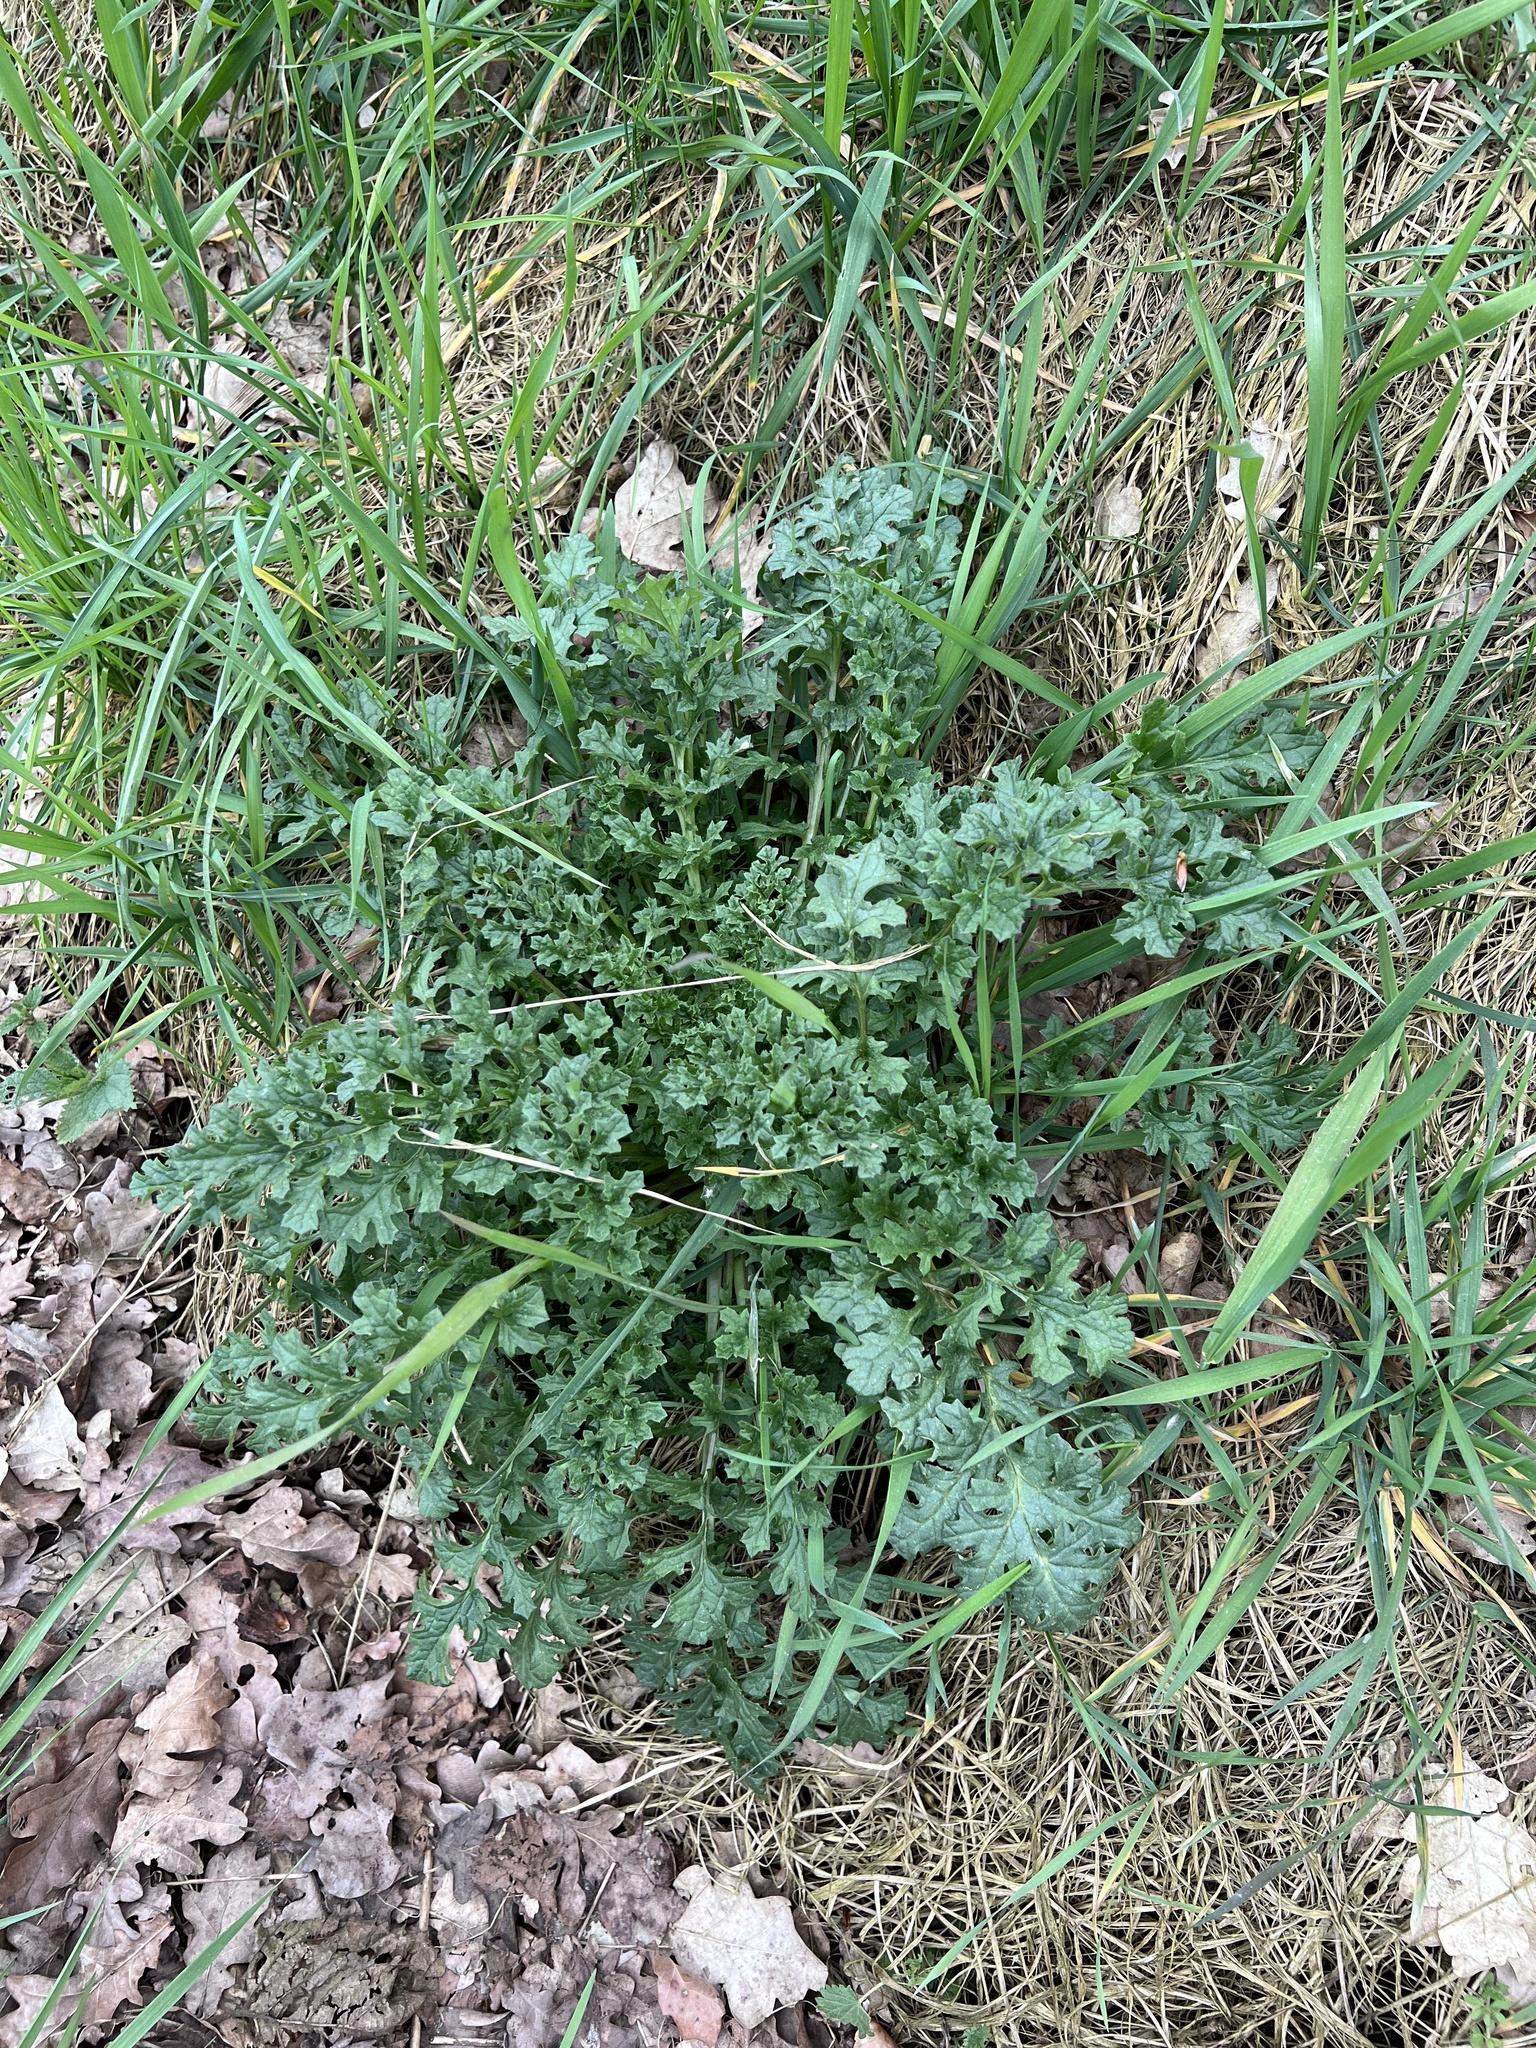Jacobaea vulgaris: (113, 427, 1241, 1790)
